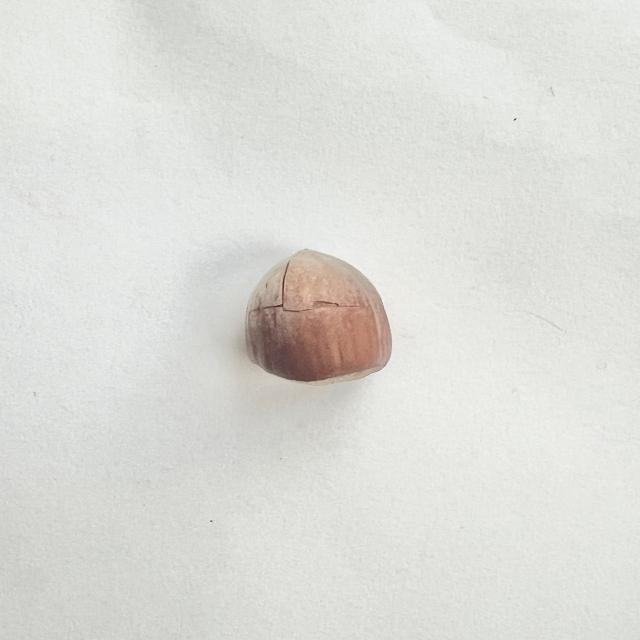hazelnut: (233, 239, 395, 386)
